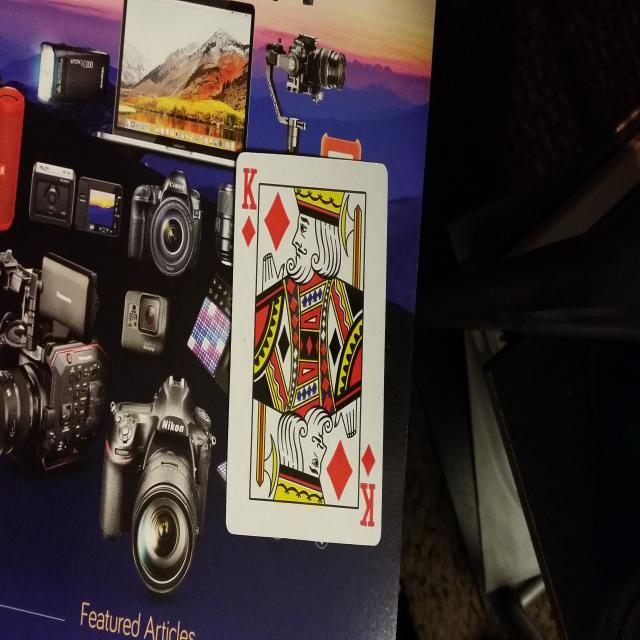Kd: (349, 441, 379, 534), (238, 157, 265, 250)
